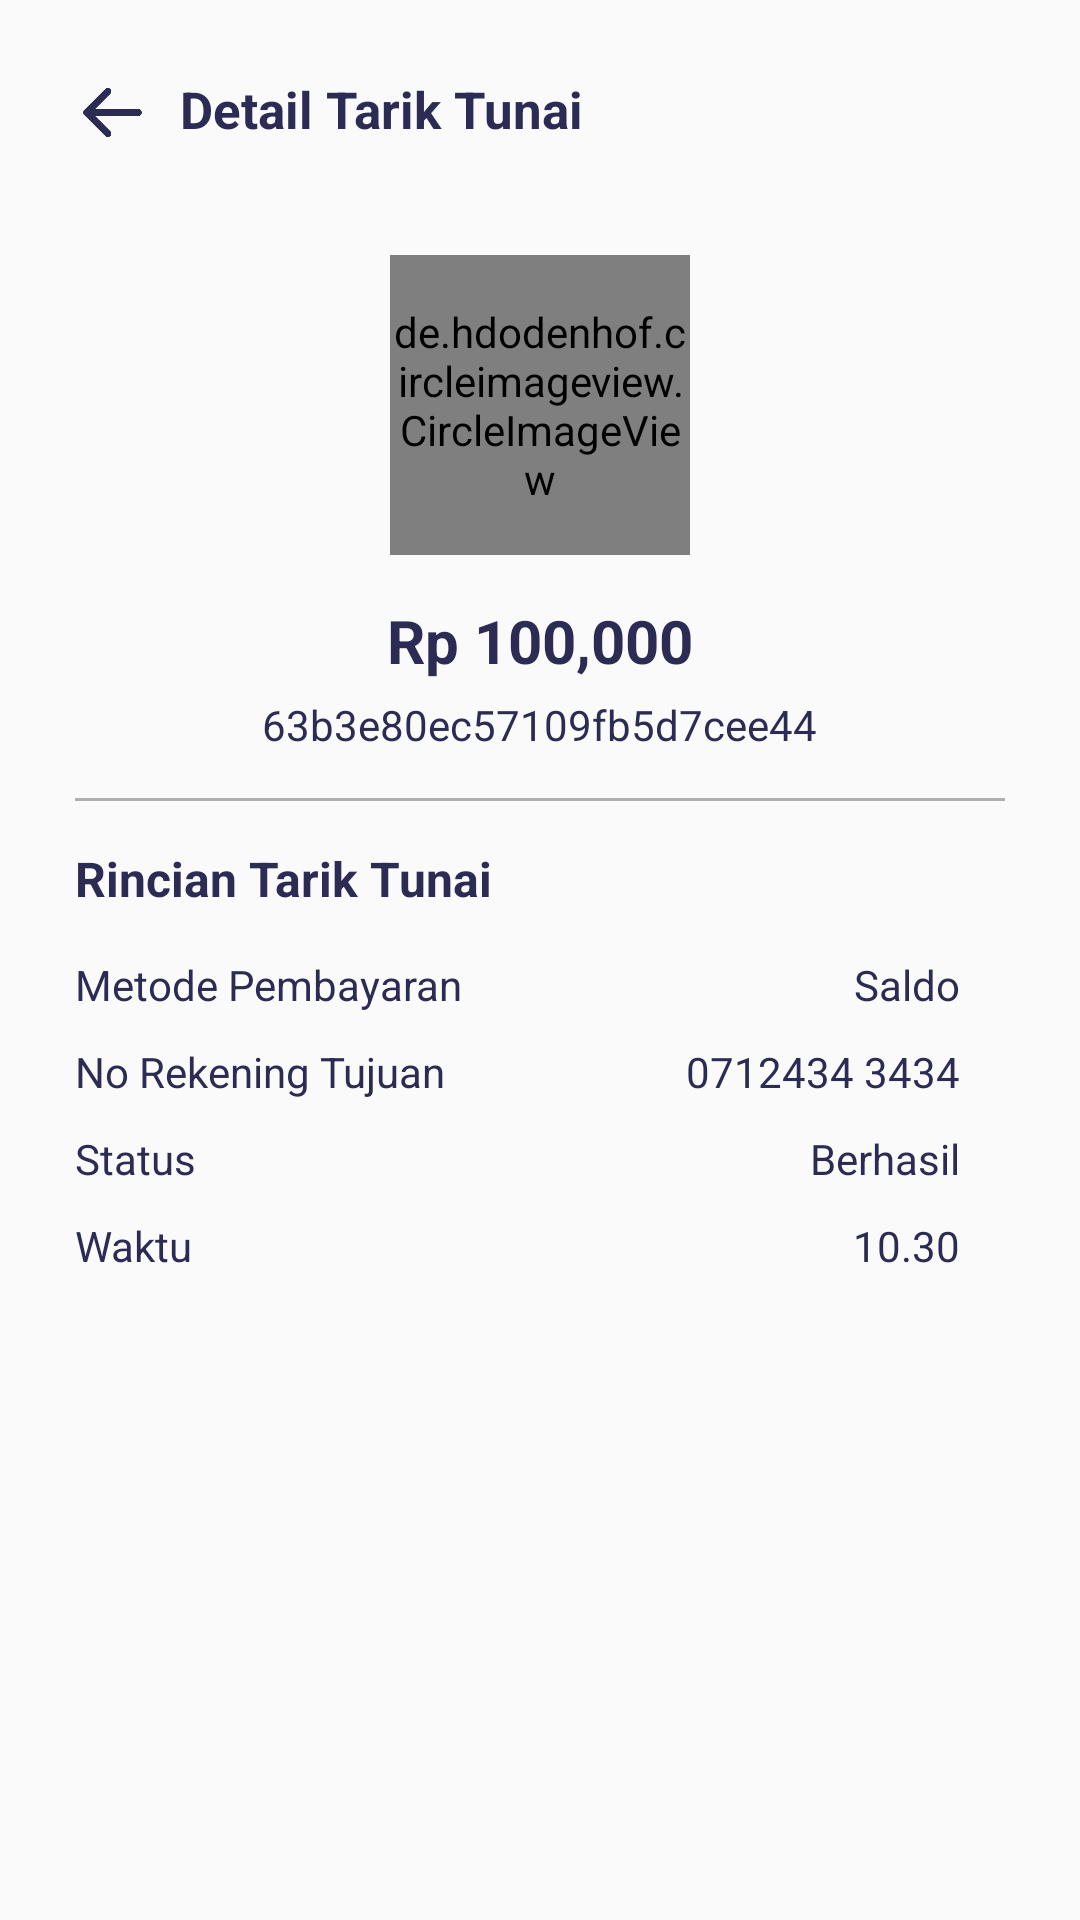

Icon click points for this 1080w x 1920h phone screenshot, format [x,y]:
arrow back: [112,112]
